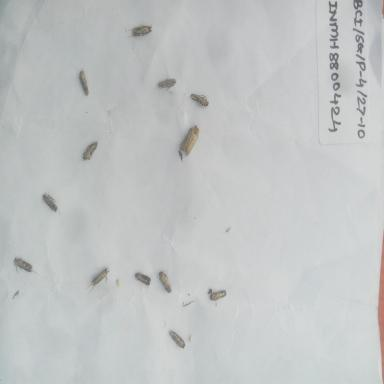pbw: (84, 264, 112, 294), (178, 124, 200, 156), (41, 188, 61, 216), (80, 138, 100, 165), (14, 256, 40, 276), (77, 68, 93, 99), (156, 268, 172, 298), (125, 23, 154, 38), (186, 92, 210, 108), (168, 330, 186, 350), (134, 272, 151, 292), (156, 77, 178, 92), (208, 288, 228, 302)
